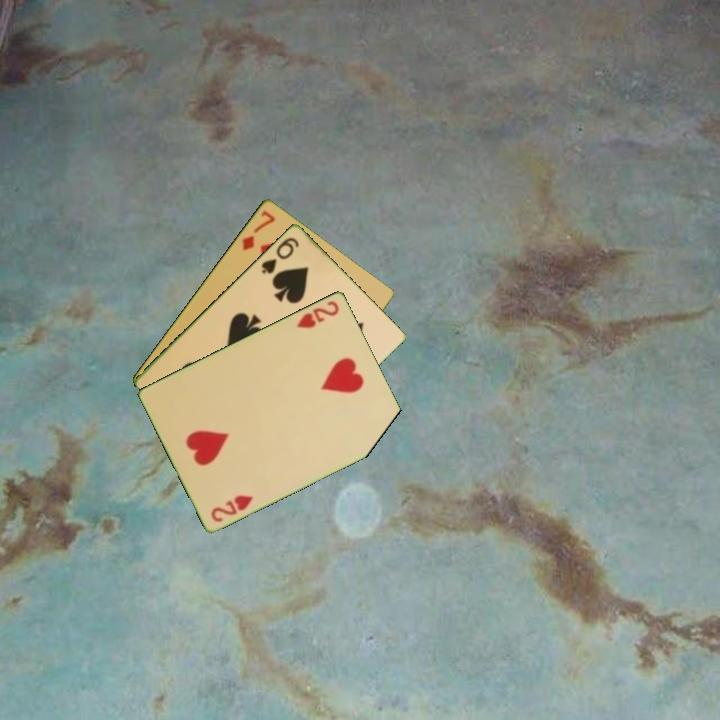2h: (293, 297, 342, 331), (208, 491, 256, 525)
6s: (257, 233, 302, 277)
7d: (238, 207, 278, 253)
